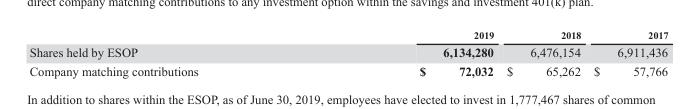table: (28, 29, 667, 78)
table column: (28, 29, 308, 78), (308, 29, 499, 78), (499, 29, 586, 78), (586, 29, 667, 78)
table column header: (28, 29, 667, 42)
table row: (28, 42, 667, 61), (28, 61, 667, 78), (28, 29, 667, 42)
